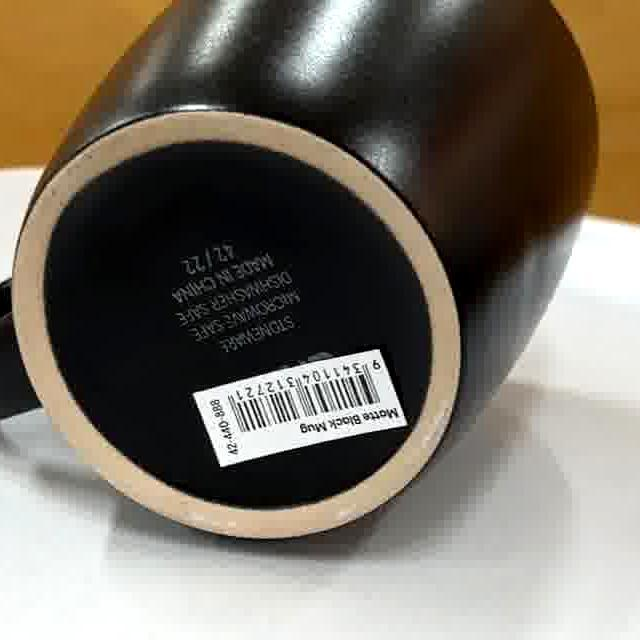cup: (0, 0, 618, 555)
